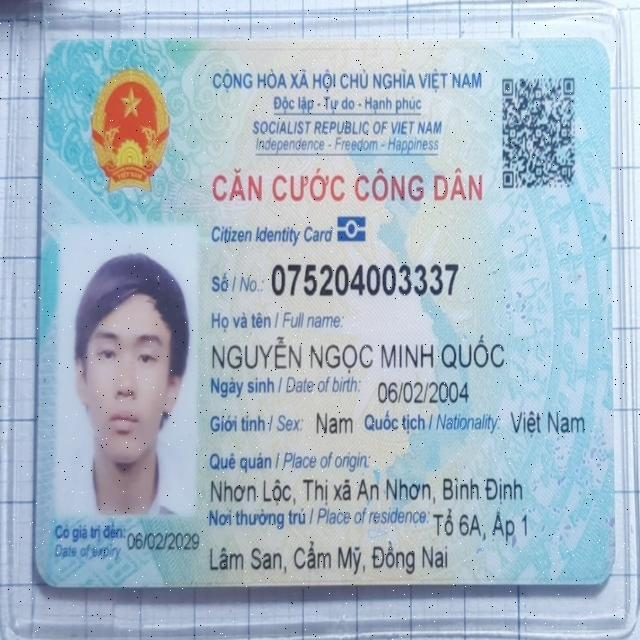current_place: (208, 537, 449, 579), (431, 507, 529, 545)
dob: (375, 376, 471, 407)
expire_date: (126, 530, 201, 552)
gender: (314, 409, 355, 439)
id: (268, 256, 462, 302)
name: (209, 332, 508, 377)
nationality: (509, 407, 586, 441)
origin_place: (208, 474, 525, 507)
